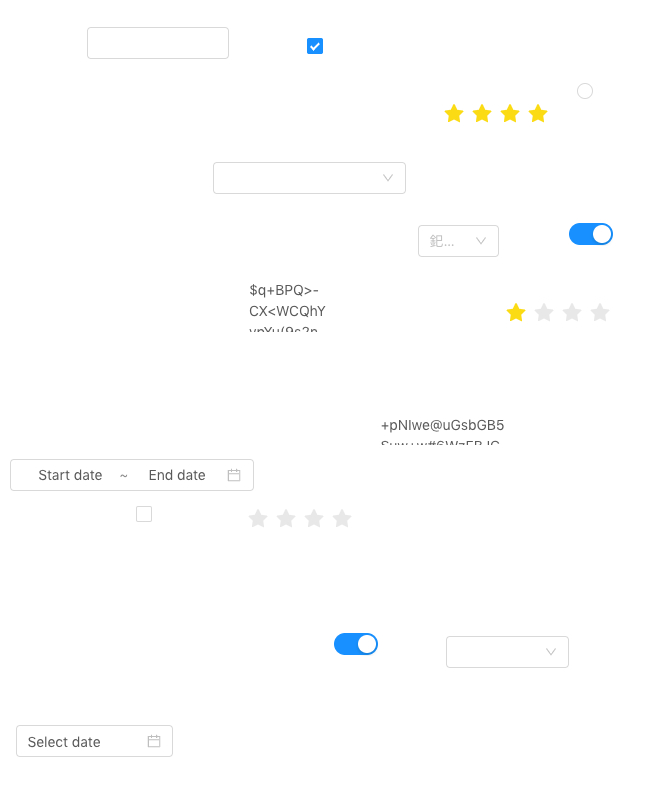Checkbox: (307, 35, 323, 56), (136, 503, 152, 524)
DatePicker: (16, 725, 173, 757)
Input: (87, 27, 229, 59)
Radio: (577, 80, 593, 100)
RangePicker: (10, 459, 254, 491)
Rate: (444, 97, 564, 129), (506, 296, 626, 328), (248, 502, 368, 534)
Select: (213, 162, 406, 194), (446, 636, 569, 668), (418, 225, 499, 257)
Switch: (569, 222, 613, 246), (334, 632, 378, 656)
Text: (249, 279, 331, 332), (381, 414, 508, 445)
